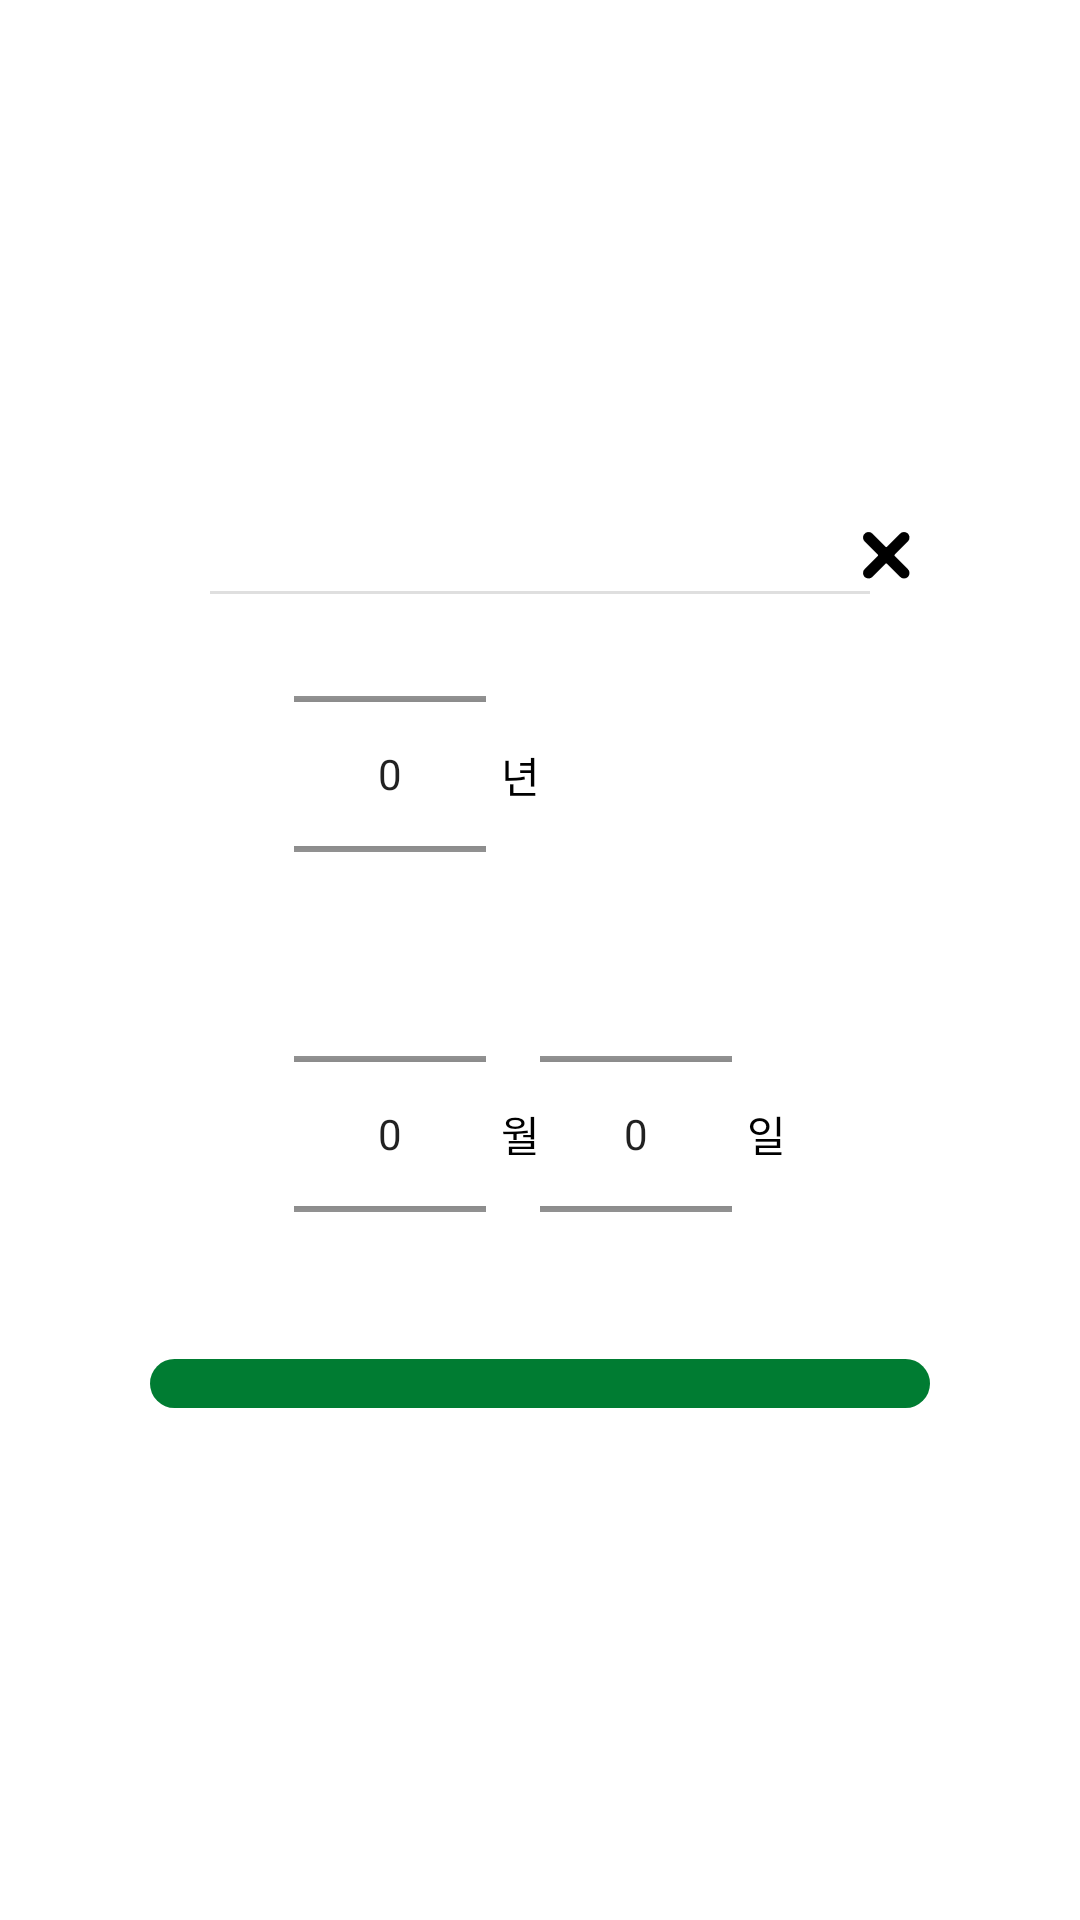

Icons on this 1080px x 1920px Android screen, each with its box as (x1, y1, x2, y2):
base close: (863, 532, 910, 579)
